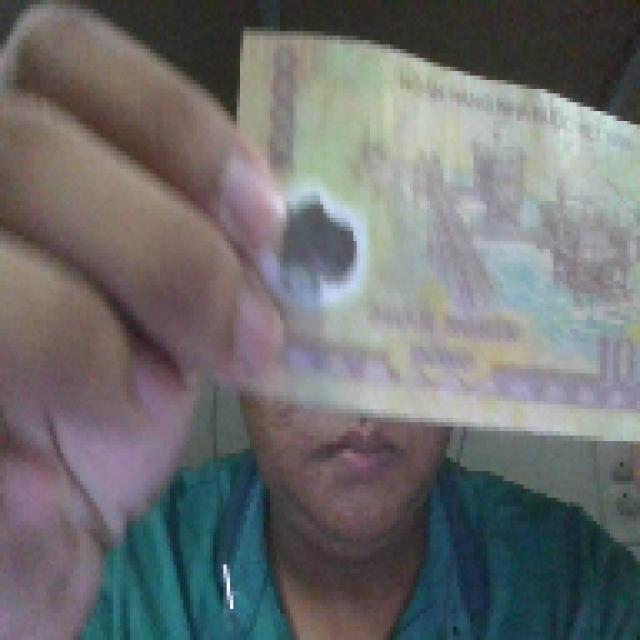10 000 VND: (221, 18, 637, 449)
